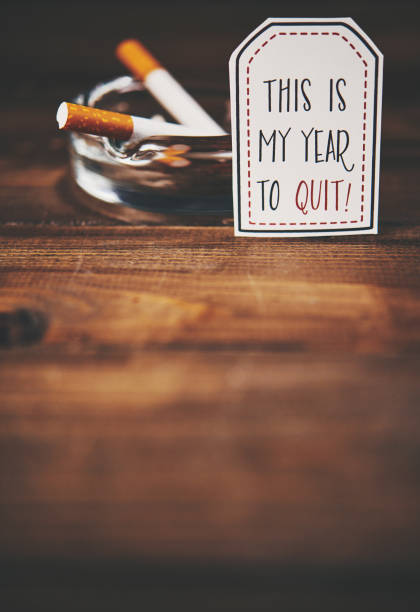cigarette: (115, 38, 225, 133), (56, 100, 191, 136)
